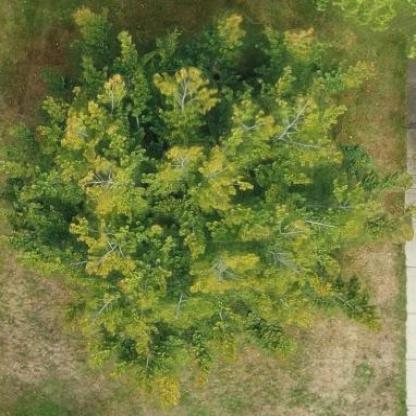Coniferous Tree: (12, 5, 392, 363)
